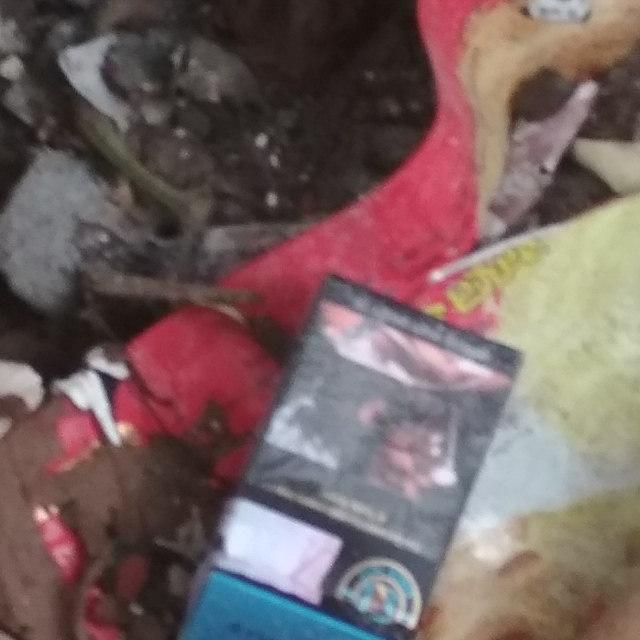paper: (117, 222, 549, 640)
